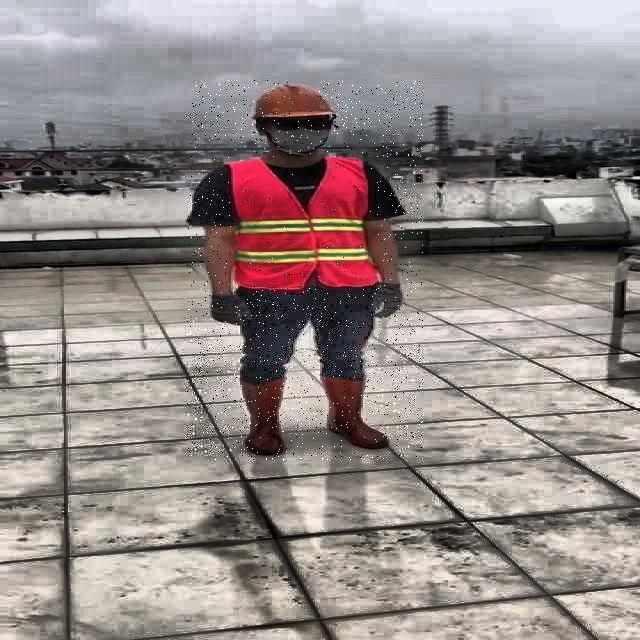safety_helmet: (248, 80, 339, 122)
safety_jacket: (231, 155, 377, 287)
